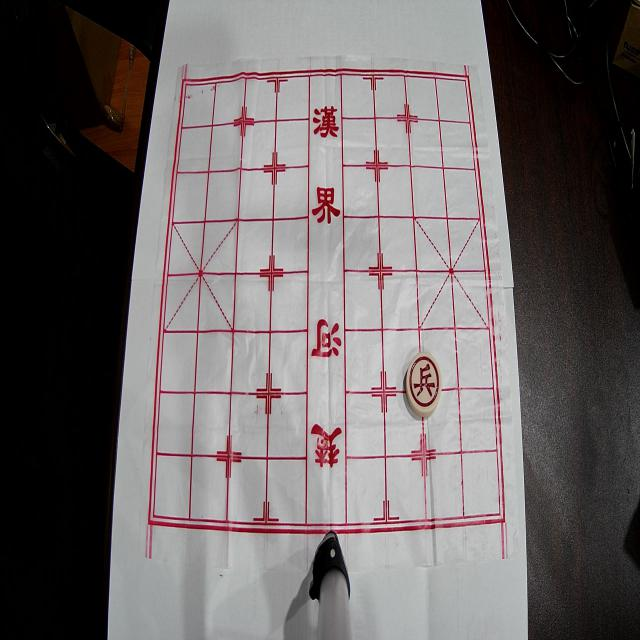red-soldier: (406, 352, 442, 417)
